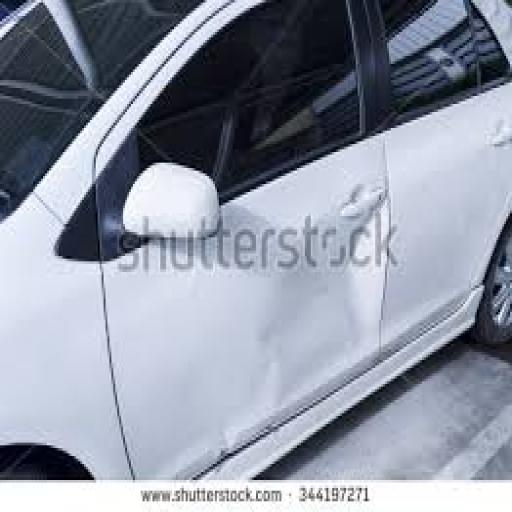dent: (61, 60, 465, 472)
